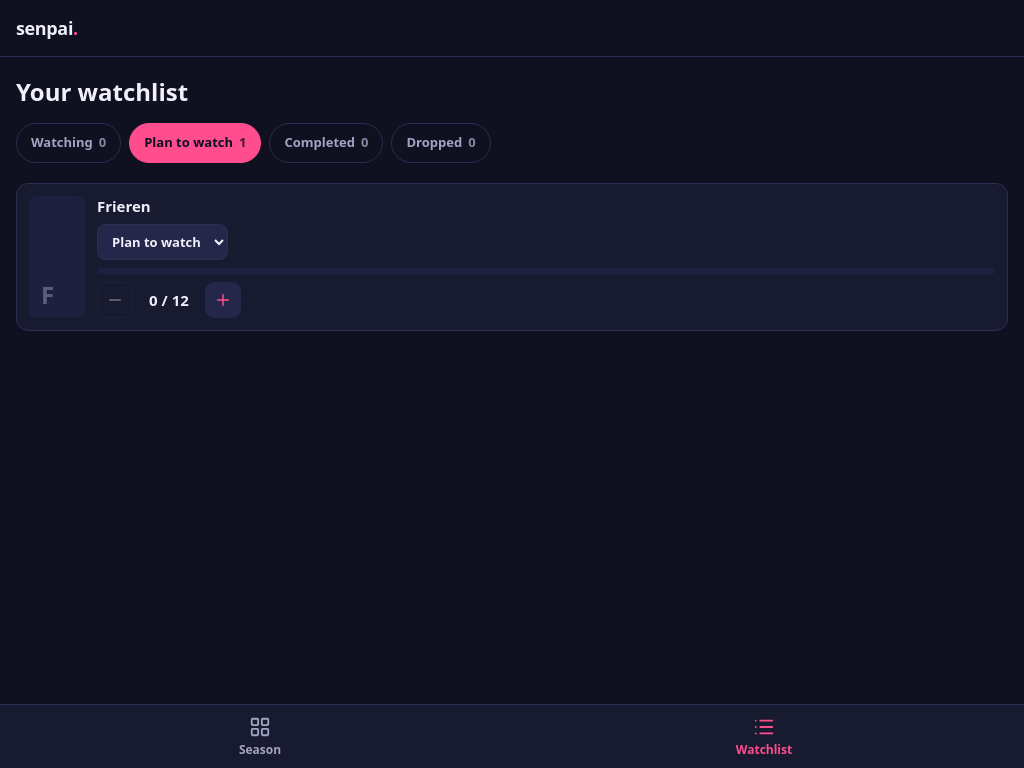
Test: WatchlistPage › says so when a tab has no shows
This screenshot has width=1024, height=768.
Click the tab "Dropped 0".
click(441, 143)  # box [391,123,490,163]
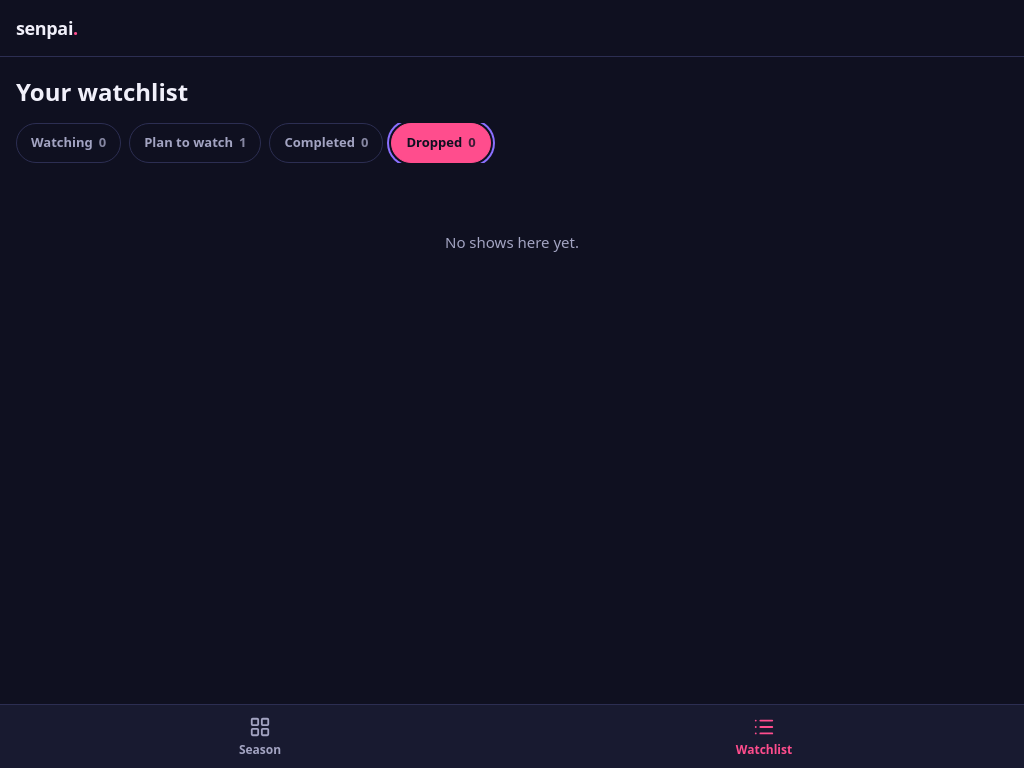
Expected: the text "No shows here yet." is shown, [445,232,579,252]
